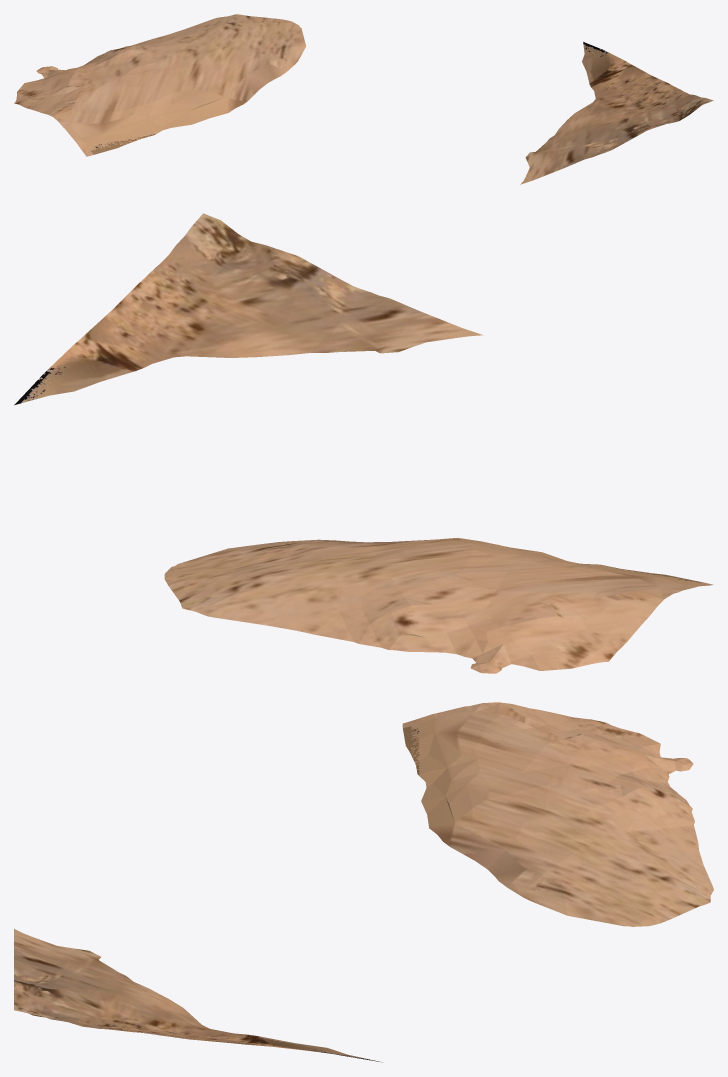
3 renders of one model, top to bottom at view 1: azimuth 30°, elevation 25°; view 2: azimuth 150°, elevation 25°; view 3: azimuth 270°, elevation 25°, orthographic. The views are drawn at different scales.
Bounding box in the file's own units: 2.09 × 0.1506 × 1.82.
1 material, 1 textured.
